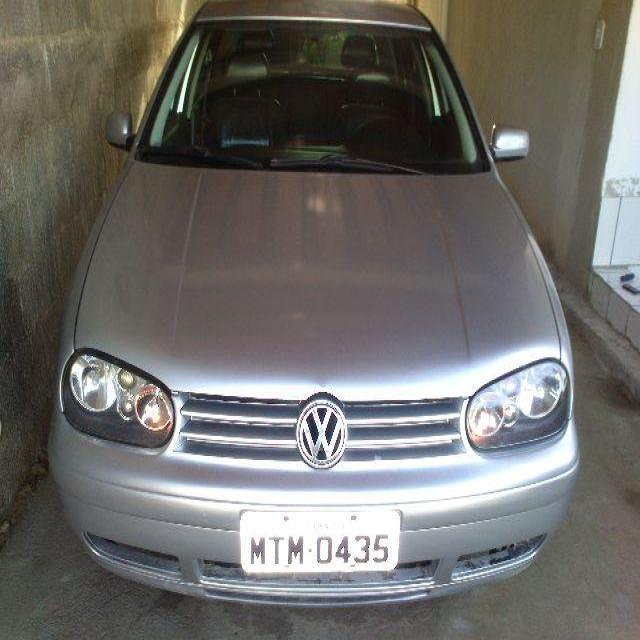Placa: (236, 504, 404, 583)
